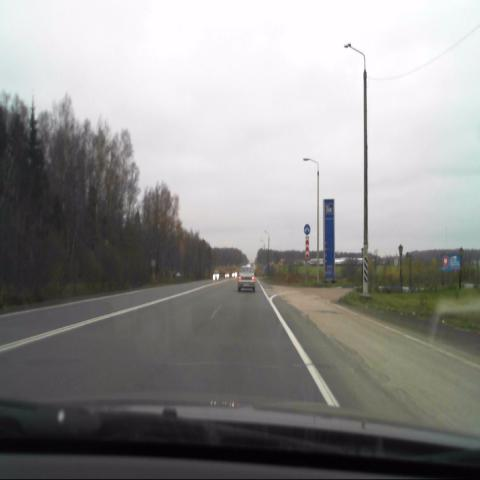4_2_3: (304, 223, 312, 235)
